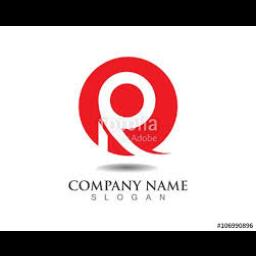o: (99, 71, 155, 121)
